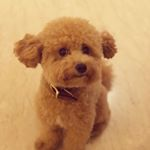puppy: (9, 12, 119, 150)
